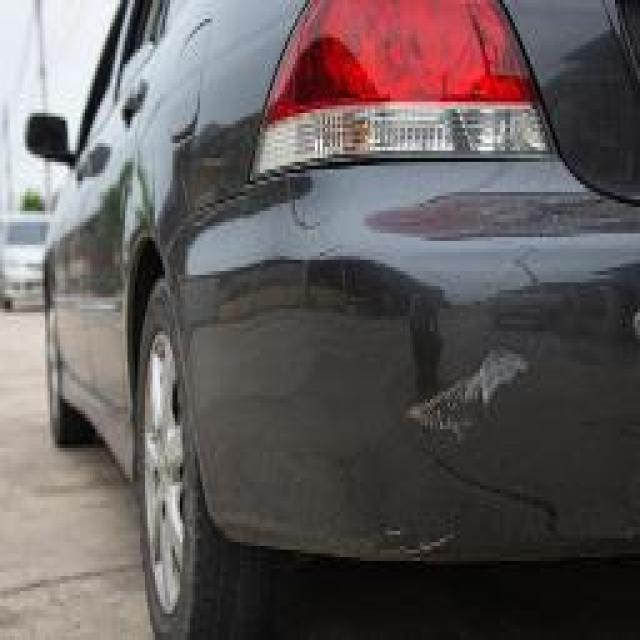Bumper: (298, 162, 640, 576)
